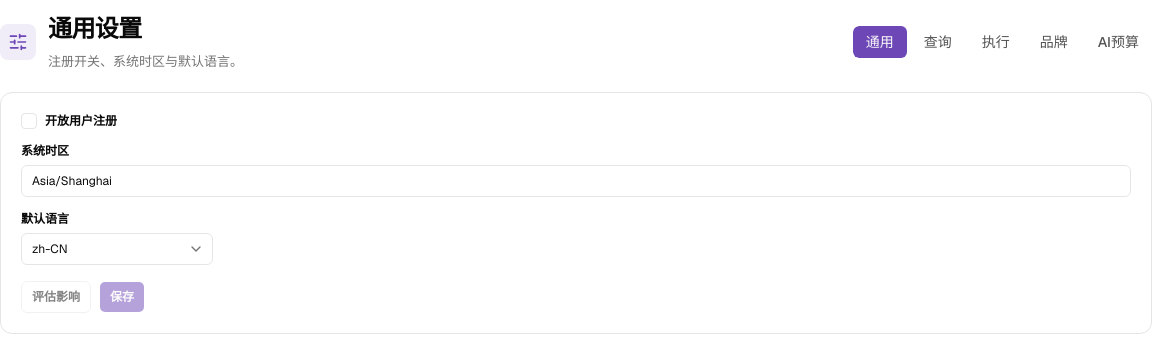
Test: admin settings visual consistency › uses the shadcn checkbox and select primitives in the general namespace
Expected: the heading "通用设置" is shown, [48, 13, 142, 44]
Click the checkbox named "开放用户注册" at (29, 121), box [21, 113, 37, 129]
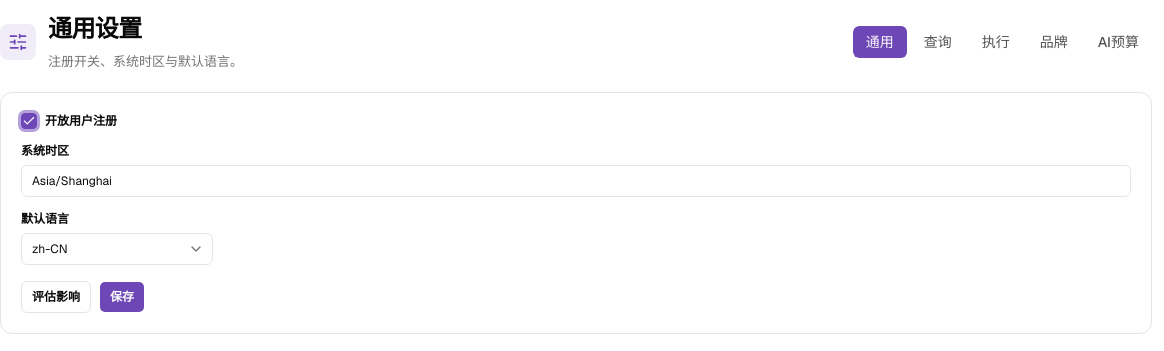
Expected: the checkbox named "开放用户注册" is checked, [21, 113, 37, 129]
Click the dropdown named "默认语言" at (117, 249), box [21, 233, 213, 265]
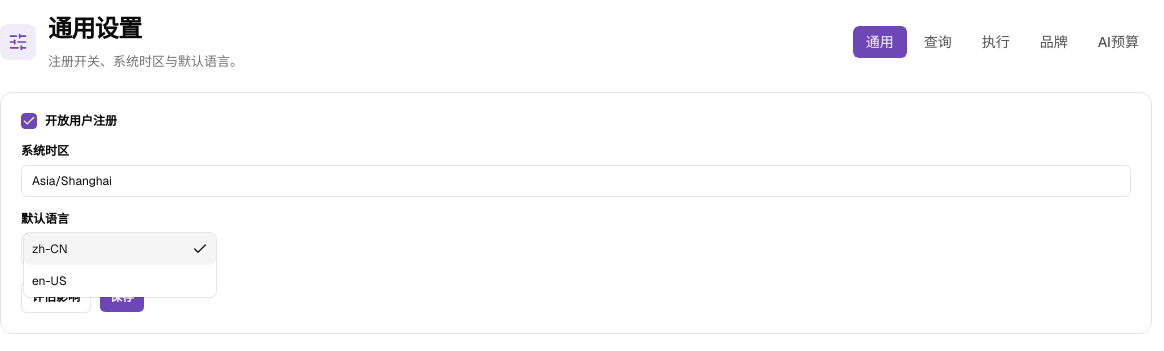
Click the option "en-US" at (49, 281), box [32, 273, 67, 289]
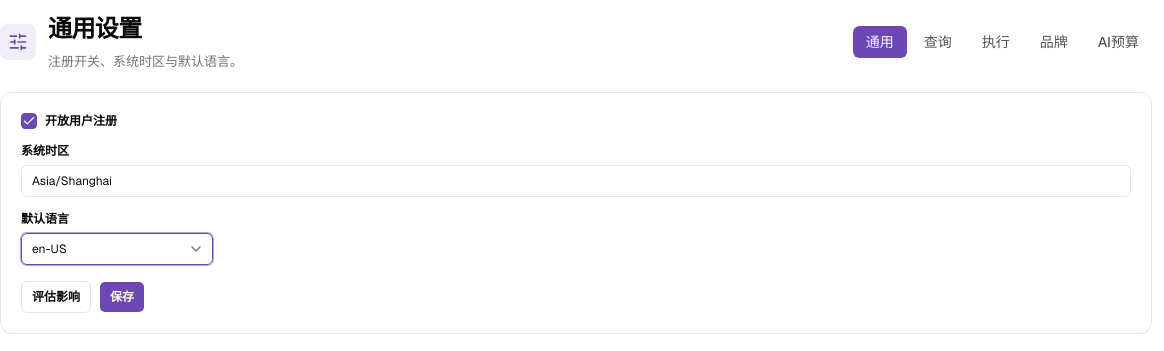
Expected: the dropdown named "默认语言" shows "en-US", [21, 233, 213, 265]
